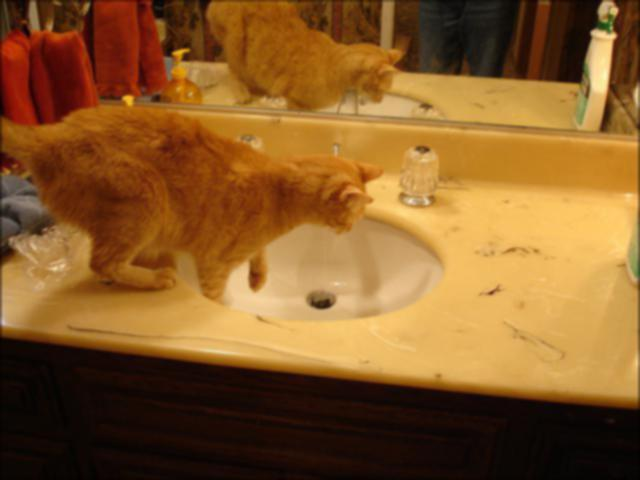Lavamanos: (176, 128, 461, 337)
Otro Obstaculo: (1, 89, 386, 310)
